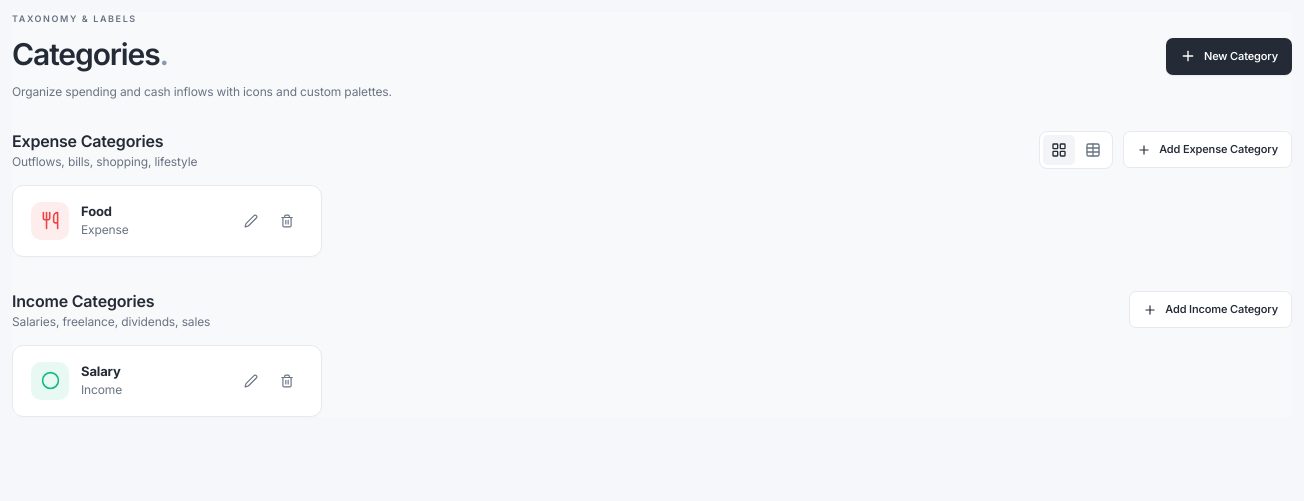
Scenario: CategoriesPage › switches both category groups between grid and table views
Later steps or results of the test are not shown.
expect the text "Food" is shown: met, box [81,203,112,219]
Click the button named "Table view" at (1093, 150), box [1077,134,1109,164]
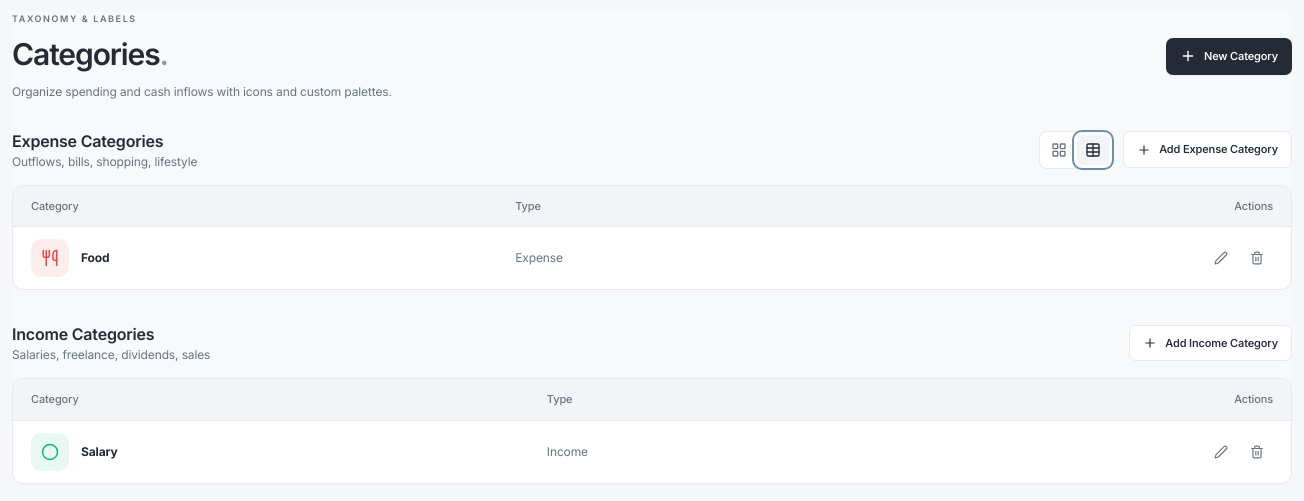
expect the button named "Edit Food" is shown: met, box [1205,242,1237,274]
expect the number of column headings "Category" is 2: met, box [13,186,497,226]; [13,379,529,420]
